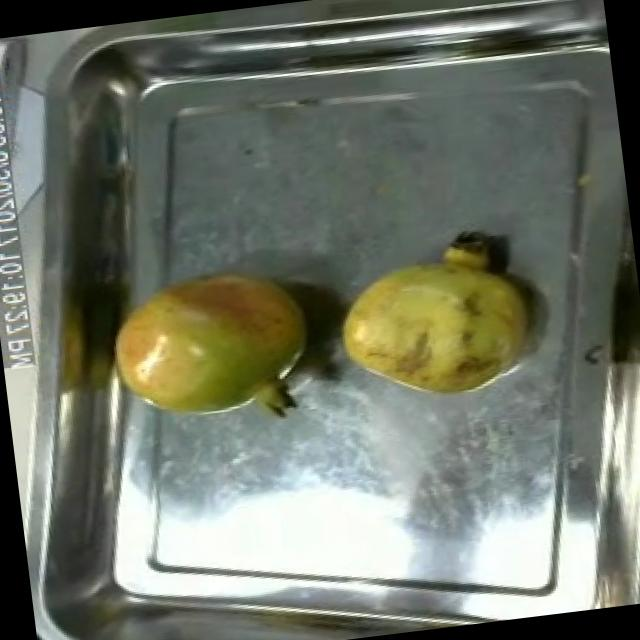fruit: (92, 248, 333, 454), (319, 222, 555, 426)
